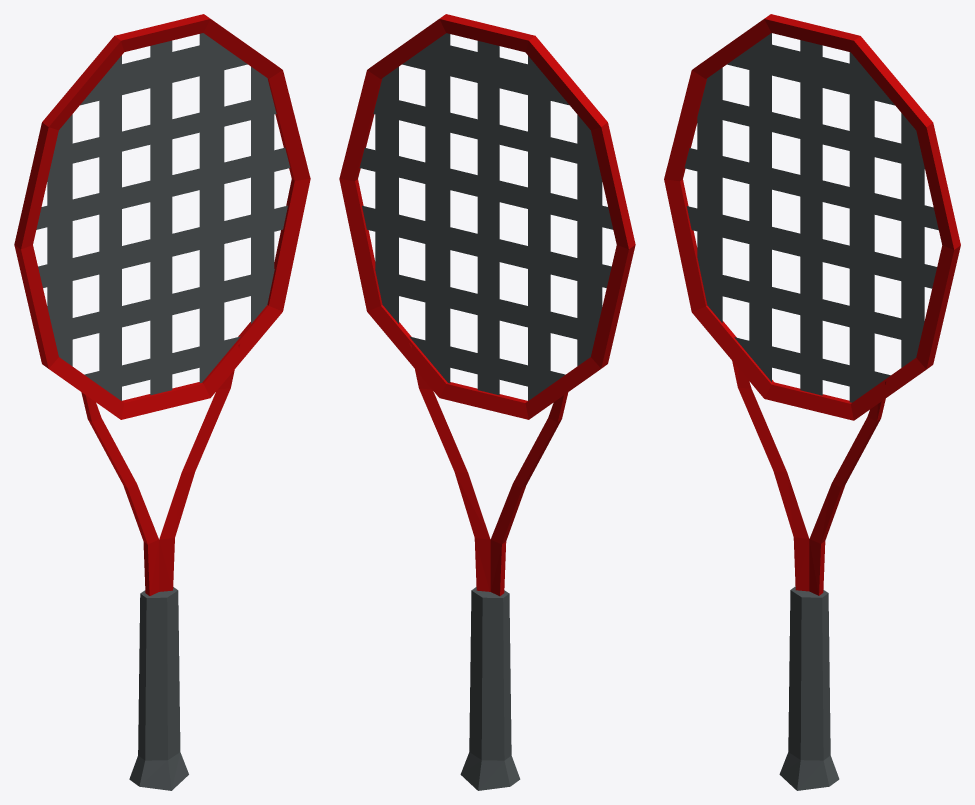
File: Badminton_racket_green001.fbx
3 views of the same model, side by side, from view 1: azimuth 30°, elevation 25°; view 2: azimuth 150°, elevation 25°; view 3: azimuth 330°, elevation 25° (orthographic).
Parts seen in each view (by area): view 1: Badminton_racket_green001; view 2: Badminton_racket_green001; view 3: Badminton_racket_green001.
Boxes of the visible parts, bbox=[...] form: Badminton_racket_green001: bbox=[14, 14, 310, 790]; Badminton_racket_green001: bbox=[339, 14, 635, 790]; Badminton_racket_green001: bbox=[664, 14, 960, 790].
Size of the model in its own units: 26.05 by 64.78 by 3.86.
